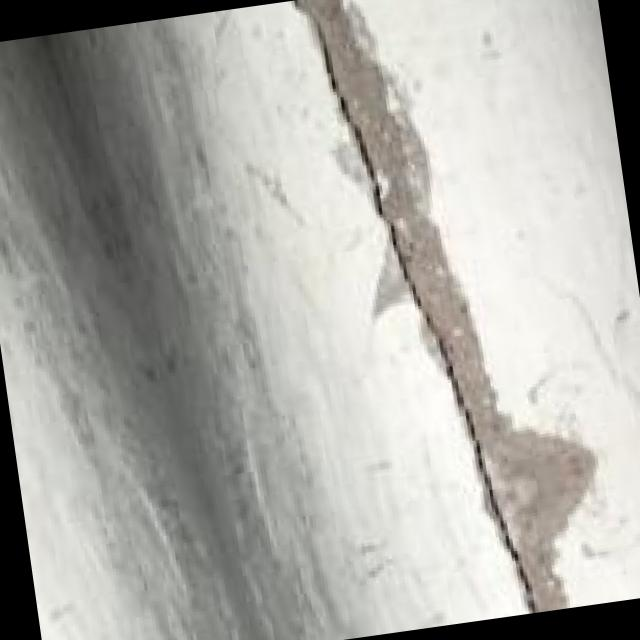crack: (263, 0, 586, 636)
